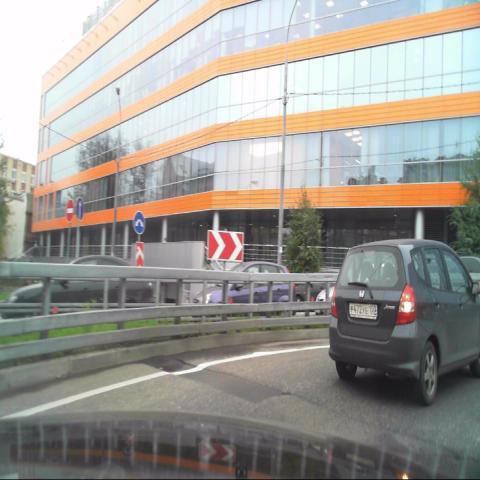4_2_3: (132, 210, 146, 236)
